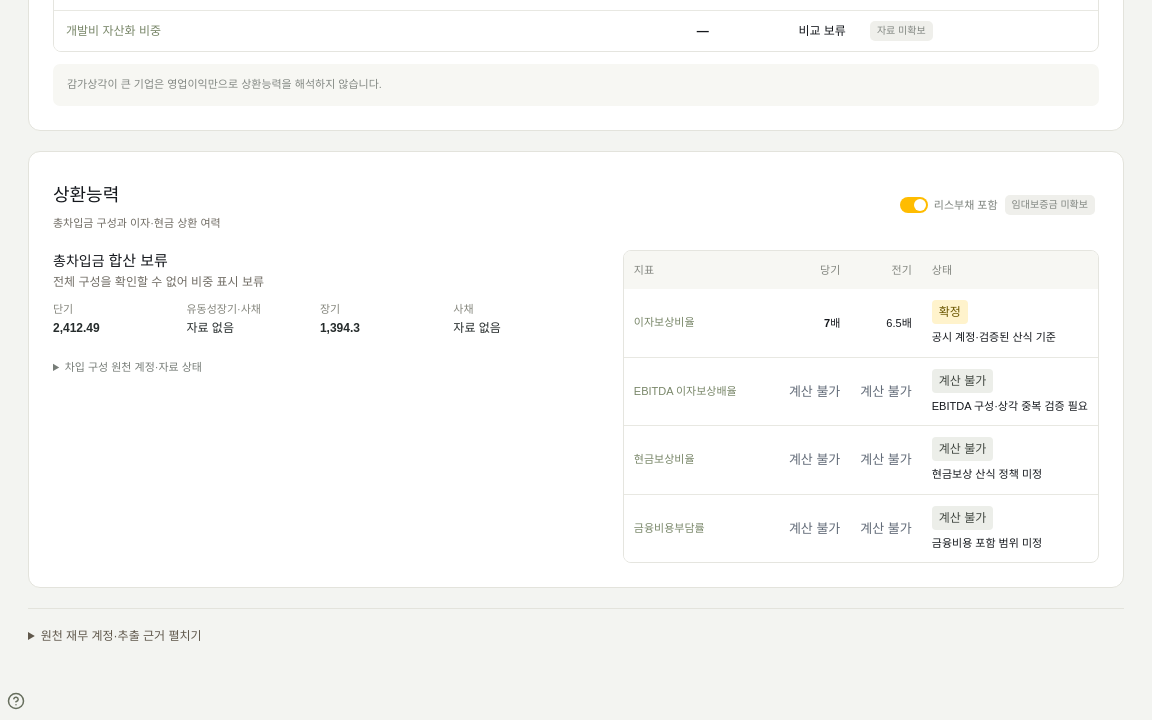
Test: renders CSV-backed values in existing financial cards and keeps source metadata in the existing dialog
The width and height of the screenshot is (1152, 720).
(page scrolled)
Expected: the element "저장된 수집 데이터" is not shown
Click the button named "분석 추가 정보" at (16, 701), box [0,681,32,719]
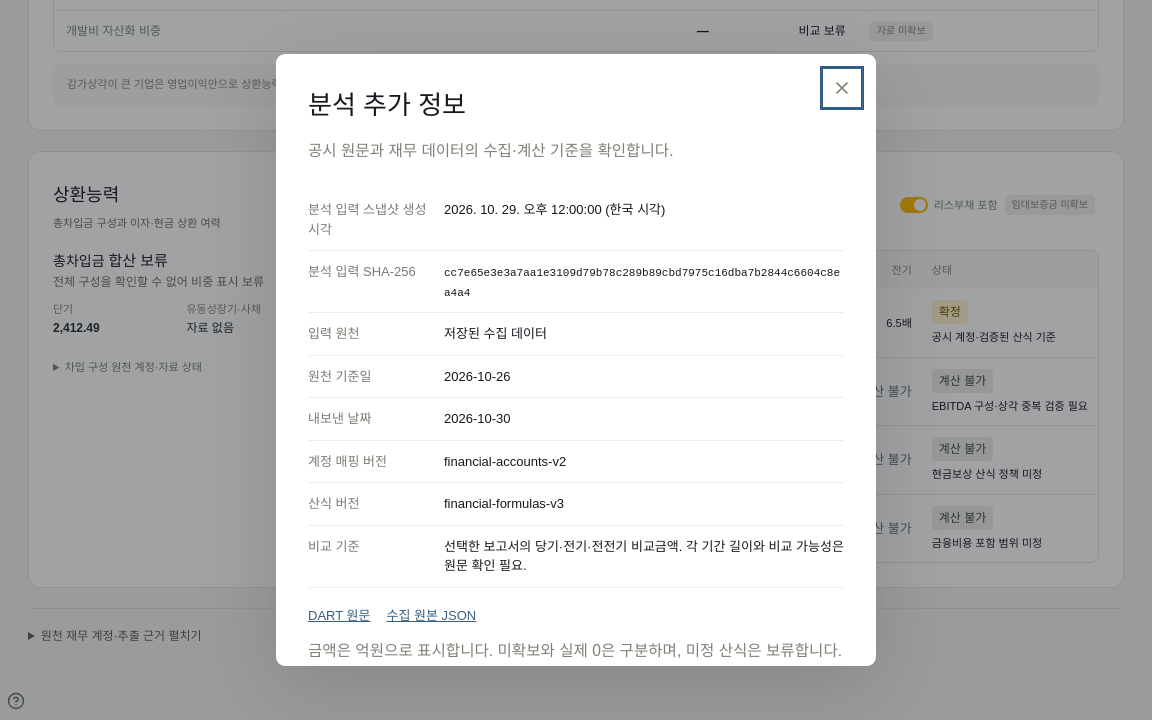
Expected: the dialog "분석 추가 정보" shows "2026-10-26", [444,369,510,384]
